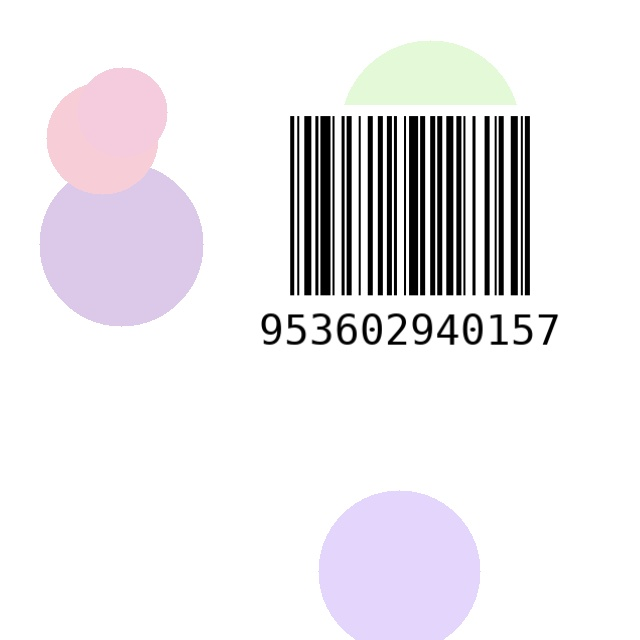barcode: (260, 105, 560, 387)
